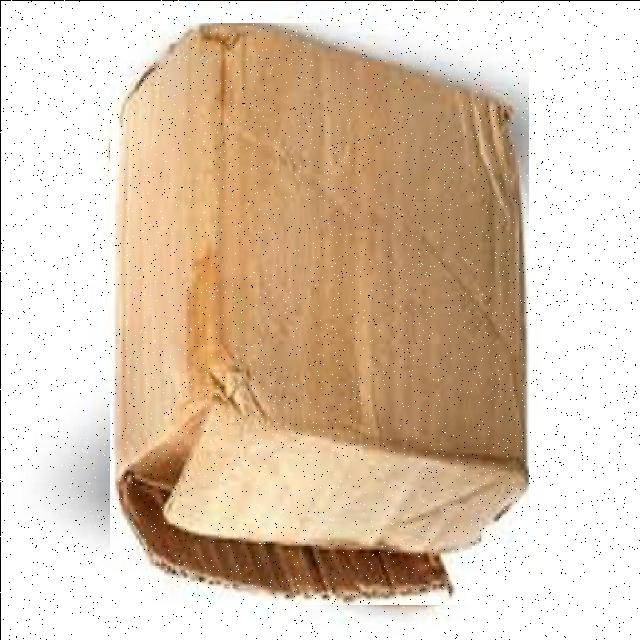defect: (109, 22, 528, 604)
